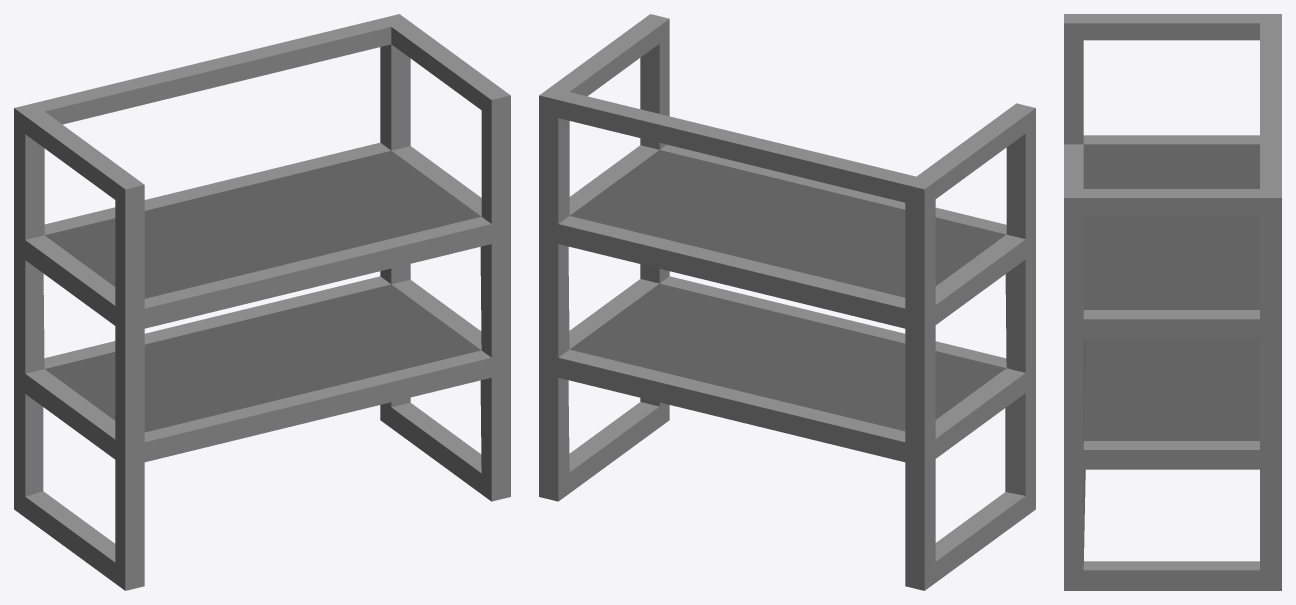
The model's file is X2Y2BoxShelf.fbx.
3 views of the same model, side by side, from view 1: azimuth 30°, elevation 25°; view 2: azimuth 150°, elevation 25°; view 3: azimuth 270°, elevation 25° (orthographic). The views are drawn at different scales.
Visible parts, largest first — view 1: x2y2tana; view 2: x2y2tana; view 3: x2y2tana.
Part boxes in pixels (<box>): x2y2tana: <box>14,14,510,590</box>; x2y2tana: <box>539,14,1035,590</box>; x2y2tana: <box>1064,14,1281,590</box>.
Bounding box in the file's own units: 2 × 1.99 × 1.
1 material, 1 textured.
